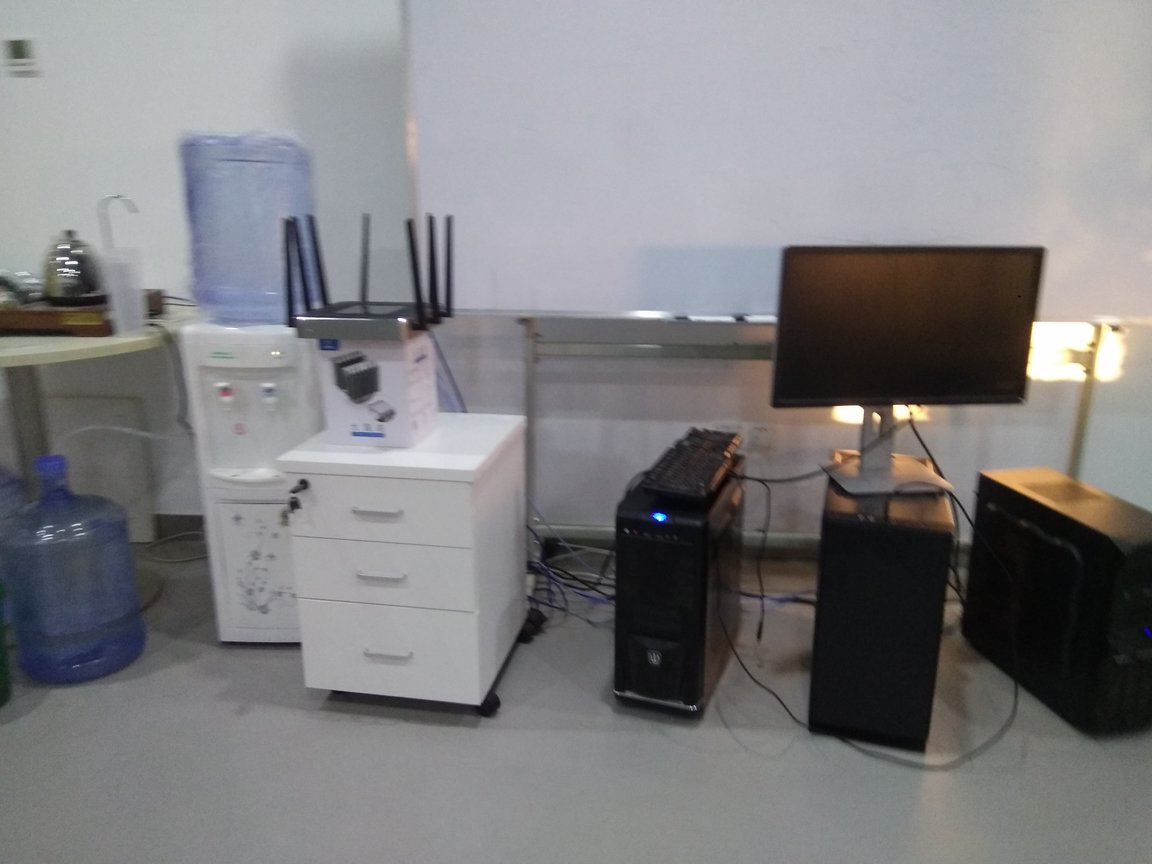computer: (598, 436, 770, 730), (804, 445, 953, 770), (978, 465, 1152, 732)
drawer chest: (278, 409, 534, 725)
monitor: (772, 236, 1053, 516)
scuttlebutt: (3, 450, 155, 684), (173, 125, 336, 319)
water dispenser: (177, 317, 360, 644)
